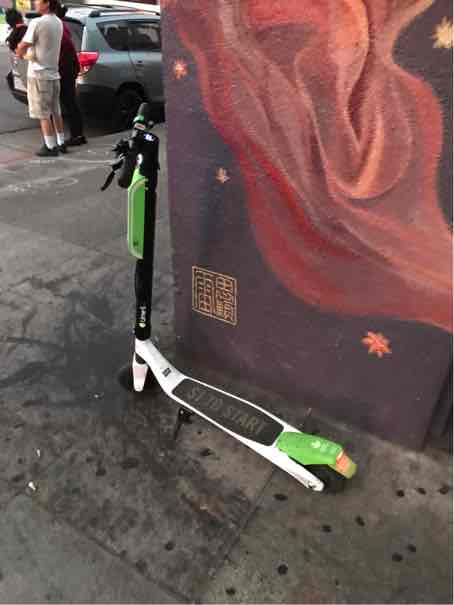scooter: (87, 95, 361, 499)
